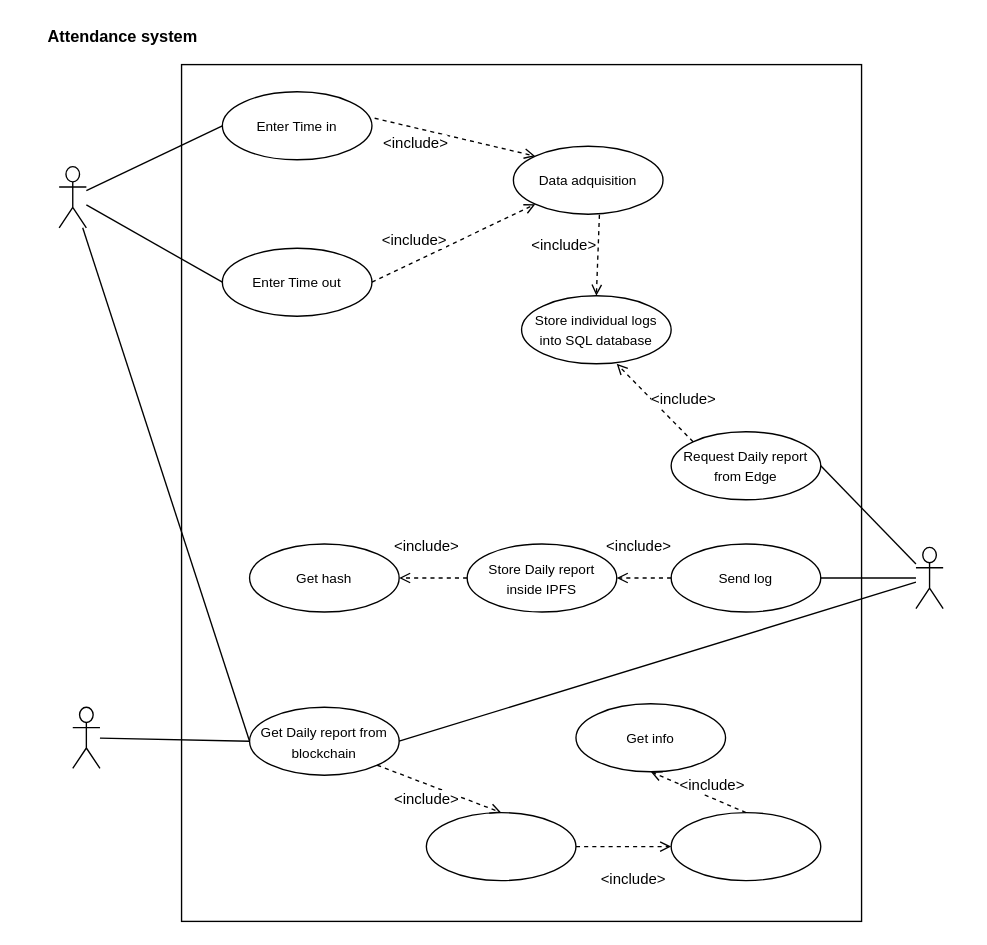
Image size: 987x945. Some labels were removed from this diagram. Each missing label, with the centre of its shape:
"Company" belongs at (929,577).
"Employee" belongs at (72,196).
"Inspector" belongs at (85,737).
"Send hash" belongs at (500,846).
"Smart Contract in Ethereum" belongs at (745,846).
